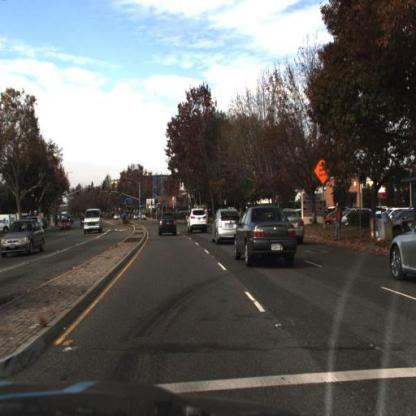car: (233, 203, 301, 271), (386, 217, 416, 290), (1, 219, 48, 260), (209, 200, 240, 253), (155, 207, 184, 243), (187, 207, 212, 240), (289, 203, 309, 244), (82, 206, 105, 238), (58, 215, 73, 234)
pedestrian: (329, 193, 345, 251)
